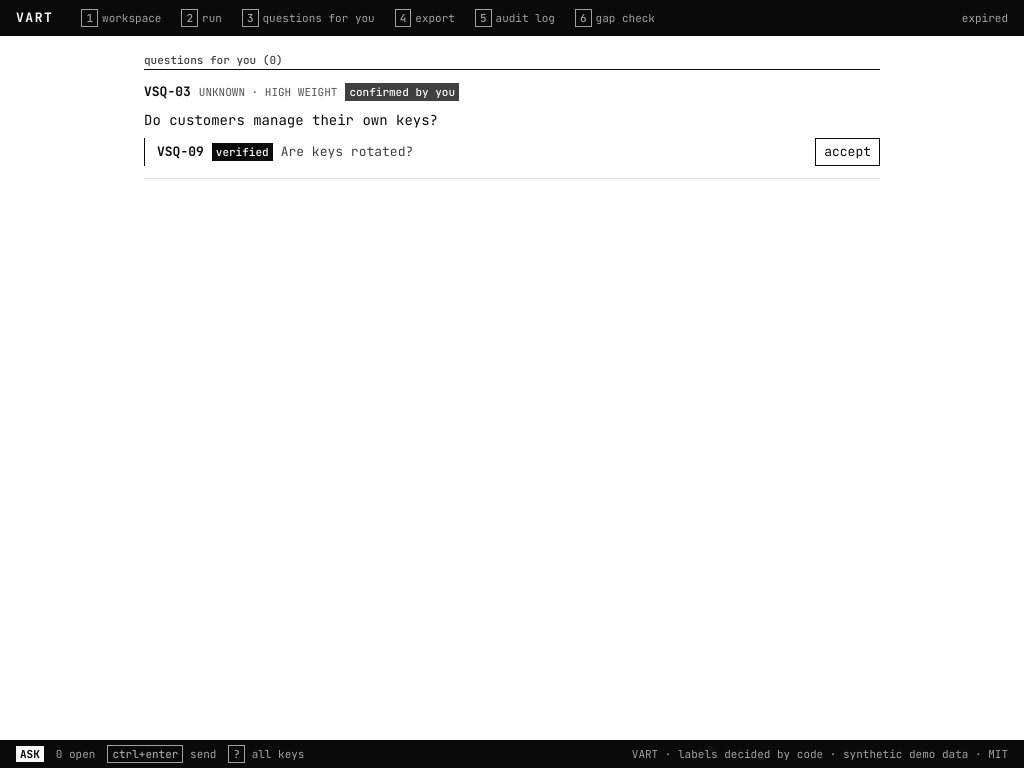
Test: Questions › shows a 409 on accepting a suggestion and drops no state
This screenshot has width=1024, height=768.
What coordinates should you click on to do the following:
click the button with aria-label "Accept fill for VSQ-09"
I would click on:
 (848, 152)
Its box is [815, 138, 880, 166].
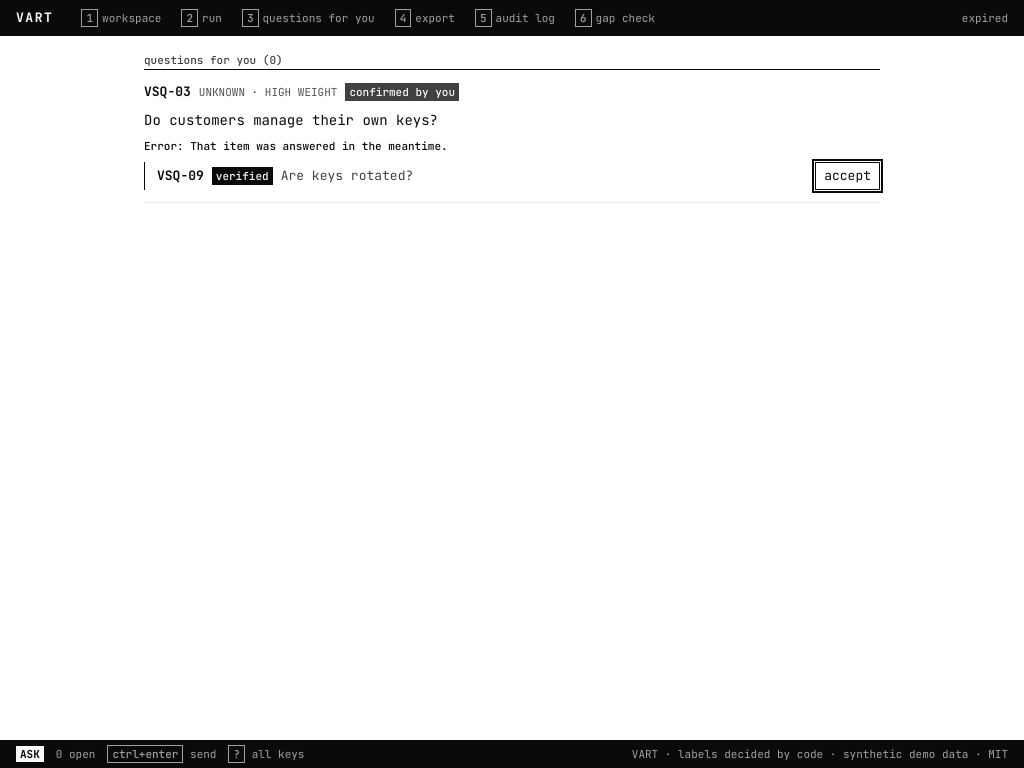
Check: the button with aria-label "Accept fill for VSQ-09" is shown, box [815, 162, 880, 190]
Check: the text "Error: That item was answered in the meantime." is shown, box [144, 139, 448, 153]
